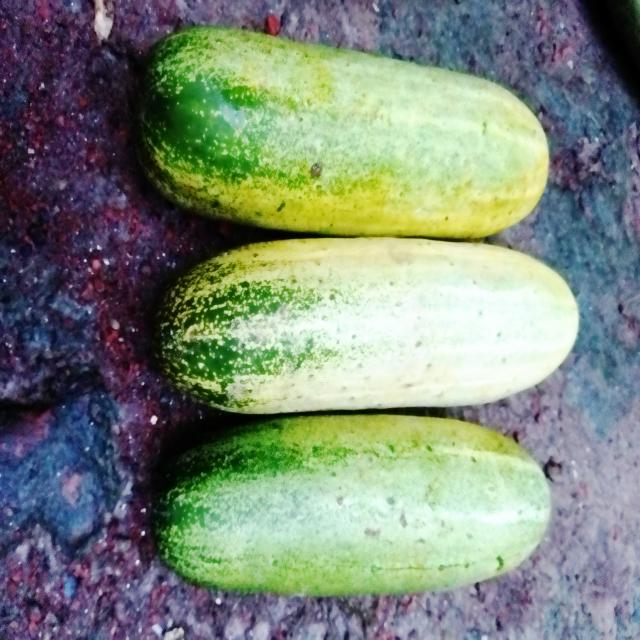Fresh-Cucumber: (130, 20, 553, 237), (155, 233, 580, 414), (150, 413, 555, 600)
